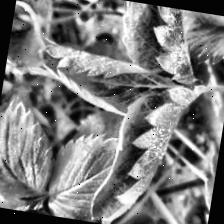Powdery Mildew Leaf: (87, 70, 208, 224), (24, 36, 186, 124), (112, 1, 216, 89)
